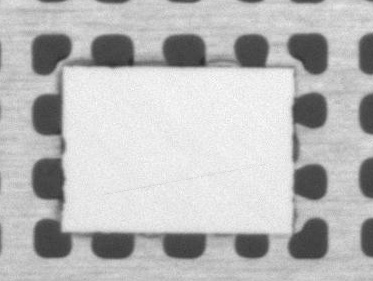DIE_CRACK: (104, 164, 265, 194)
